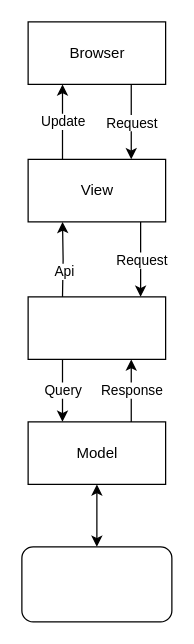
The diagram is 194 pixels wide and 644 high, and some of its shapes have lost their labels. The shapes that lost their labels are listed below. From the top down, each one's box as (x1, y1, x2, y2) in pixels, then its label:
(27, 296, 166, 359): Controller
(21, 546, 172, 622): Database
